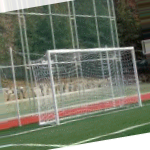goals: (30, 47, 144, 126)
